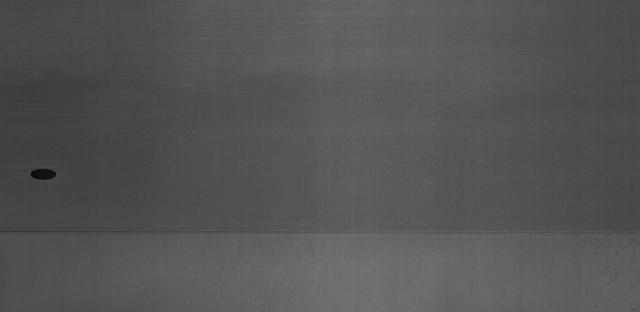punching_hole: (26, 164, 59, 183)
welding_line: (2, 220, 637, 245)
